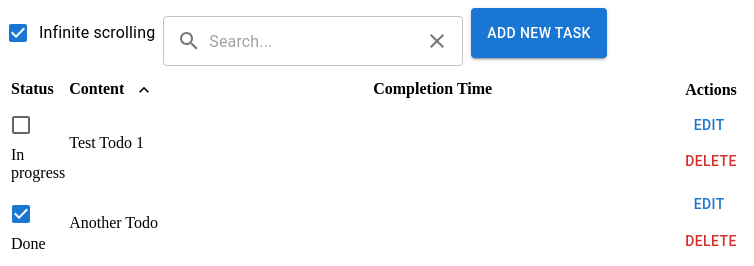
Test: TodosContainer integration › should filter todos based on search input
Type "Another" into the field with placeholder "Search..." at coordinates (313, 41), box x1=209 y1=13 x2=417 y2=69
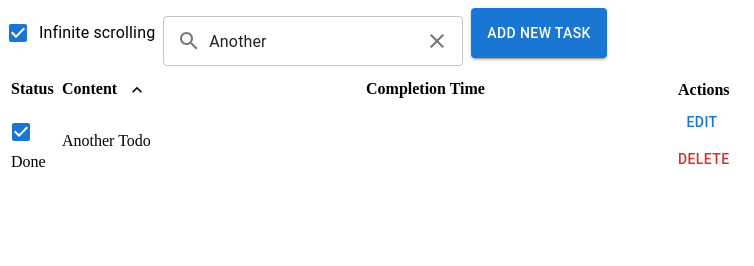
Result: the text "Test Todo 1" is gone
Result: the text "Another Todo" is shown at x1=62 y1=132 x2=151 y2=148
